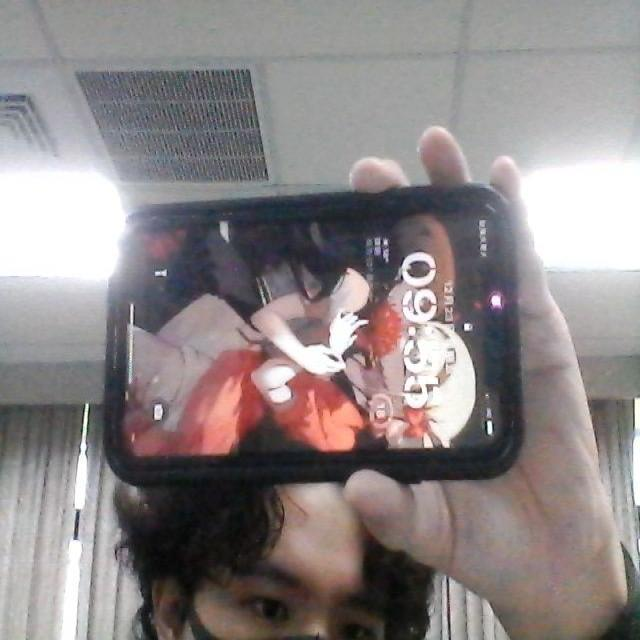Phone: (108, 186, 528, 485)
